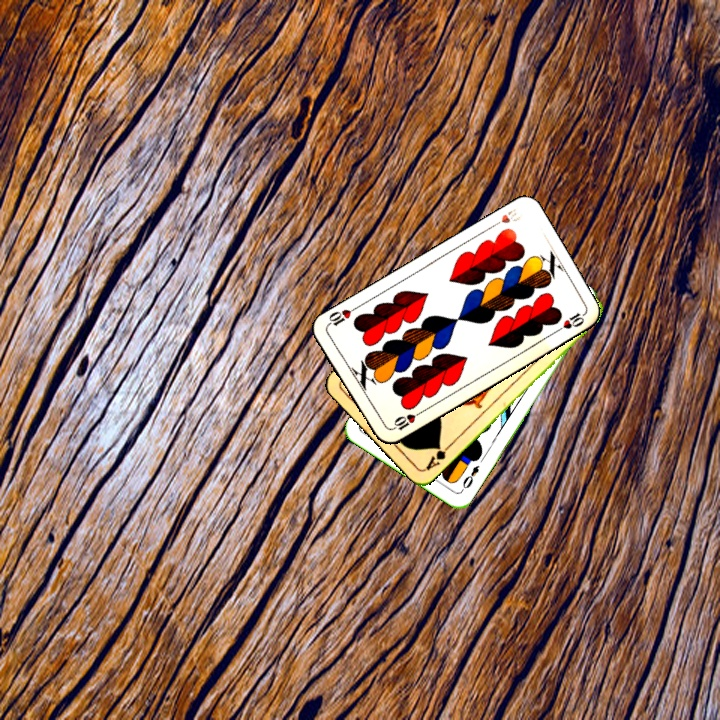EO: (457, 461, 482, 494)
GA: (421, 440, 454, 473)
H10: (487, 204, 523, 231), (387, 407, 424, 433)
